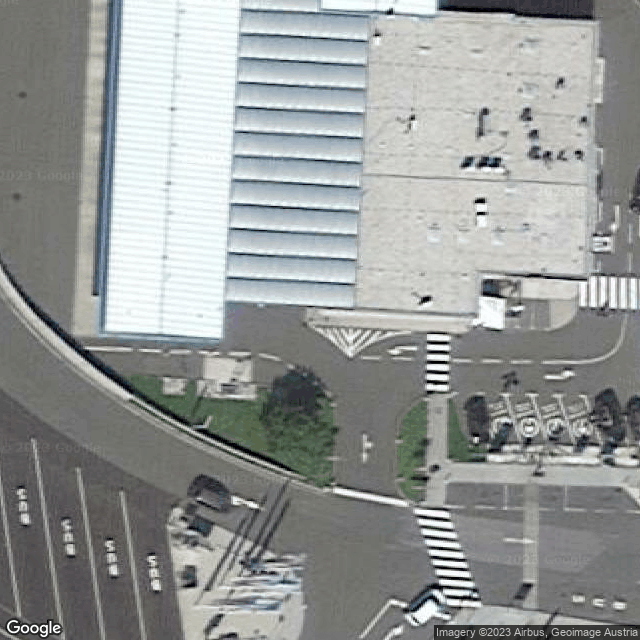obstacles: (480, 166, 508, 176), (418, 298, 435, 311), (475, 215, 487, 229), (476, 202, 487, 214), (463, 166, 476, 174), (373, 35, 382, 46), (411, 120, 417, 131)
ridge: (160, 1, 179, 334), (161, 1, 179, 335)
roof: (355, 13, 595, 317), (103, 1, 239, 338)
